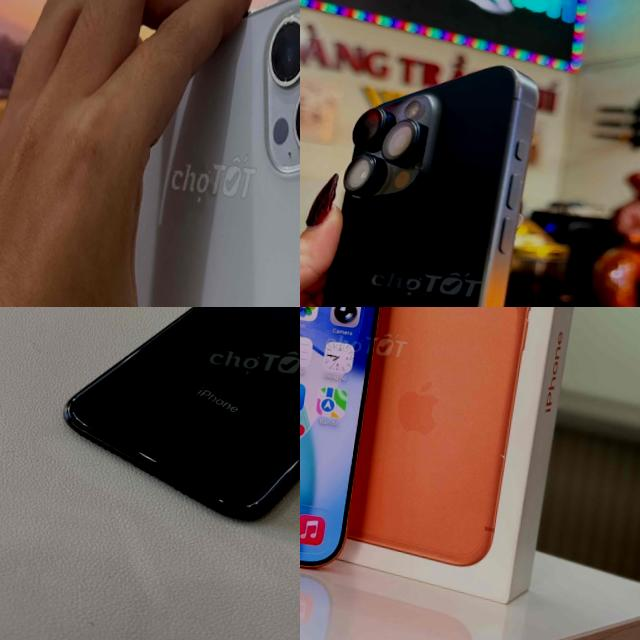gen_12_13: (100, 0, 300, 307)
gen_15: (300, 39, 565, 307)
gen_17: (300, 307, 398, 580)
gen_x_xs: (63, 307, 300, 515)
scratch: (163, 398, 207, 426), (202, 479, 222, 494)
